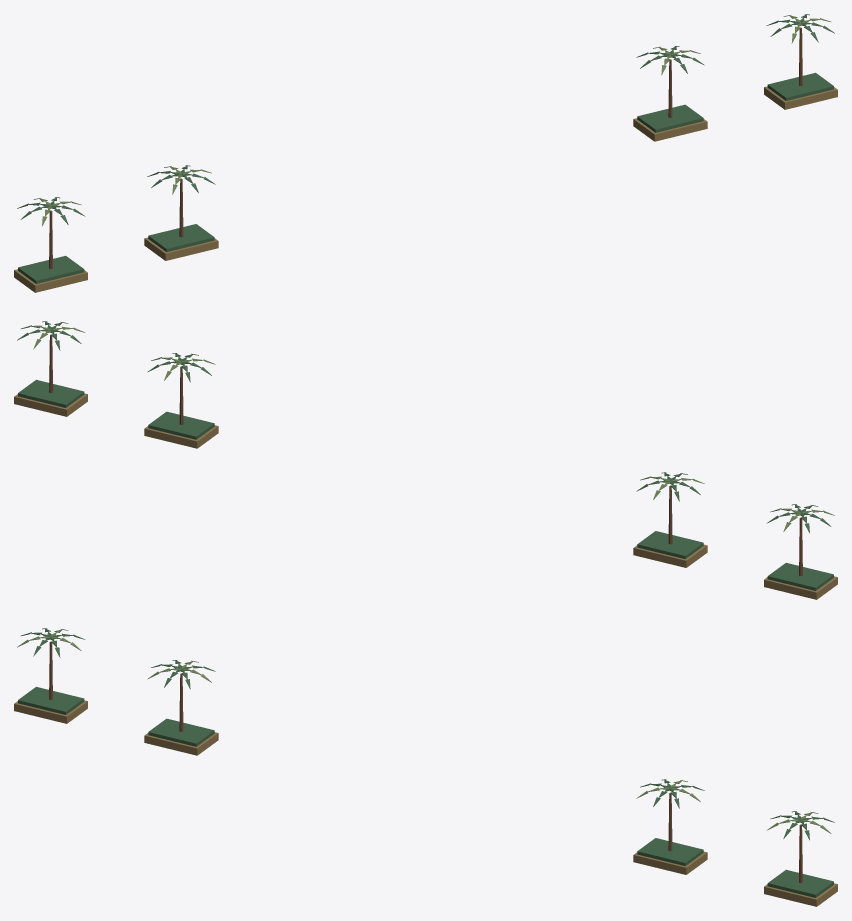
The model's file is KOL_T1_ROYAL__Landscape.fbx.
3 views of the same model, one above another, from view 1: azimuth 30°, elevation 25°; view 2: azimuth 150°, elevation 25°; view 3: azimuth 330°, elevation 25° (orthographic).
Parts seen in each view (by area): view 1: KOL_T1_ROYAL__Landscape__KOL_T1_Leaf, KOL_T1_ROYAL__Landscape__KOL_T1_RoyalStone, KOL_T1_ROYAL__Landscape__KOL_T1_Louvre, KOL_T1_ROYAL__Landscape__KOL_T1_LeafLight; view 2: KOL_T1_ROYAL__Landscape__KOL_T1_Leaf, KOL_T1_ROYAL__Landscape__KOL_T1_RoyalStone, KOL_T1_ROYAL__Landscape__KOL_T1_Louvre, KOL_T1_ROYAL__Landscape__KOL_T1_LeafLight; view 3: KOL_T1_ROYAL__Landscape__KOL_T1_Leaf, KOL_T1_ROYAL__Landscape__KOL_T1_RoyalStone, KOL_T1_ROYAL__Landscape__KOL_T1_Louvre, KOL_T1_ROYAL__Landscape__KOL_T1_LeafLight.
Boxes of the visible parts, x1,y1,x2,y2 form: KOL_T1_ROYAL__Landscape__KOL_T1_Leaf: (17,14,834,283); KOL_T1_ROYAL__Landscape__KOL_T1_RoyalStone: (14,86,837,292); KOL_T1_ROYAL__Landscape__KOL_T1_Louvre: (49,27,802,268); KOL_T1_ROYAL__Landscape__KOL_T1_LeafLight: (33,15,830,226); KOL_T1_ROYAL__Landscape__KOL_T1_Leaf: (17,321,833,590); KOL_T1_ROYAL__Landscape__KOL_T1_RoyalStone: (14,393,837,599); KOL_T1_ROYAL__Landscape__KOL_T1_Louvre: (49,334,802,575); KOL_T1_ROYAL__Landscape__KOL_T1_LeafLight: (21,325,834,531); KOL_T1_ROYAL__Landscape__KOL_T1_Leaf: (18,628,834,897); KOL_T1_ROYAL__Landscape__KOL_T1_RoyalStone: (14,700,837,906); KOL_T1_ROYAL__Landscape__KOL_T1_Louvre: (49,641,802,882); KOL_T1_ROYAL__Landscape__KOL_T1_LeafLight: (17,629,831,833).
Size of the model in its own units: 199 by 17.25 by 15.
